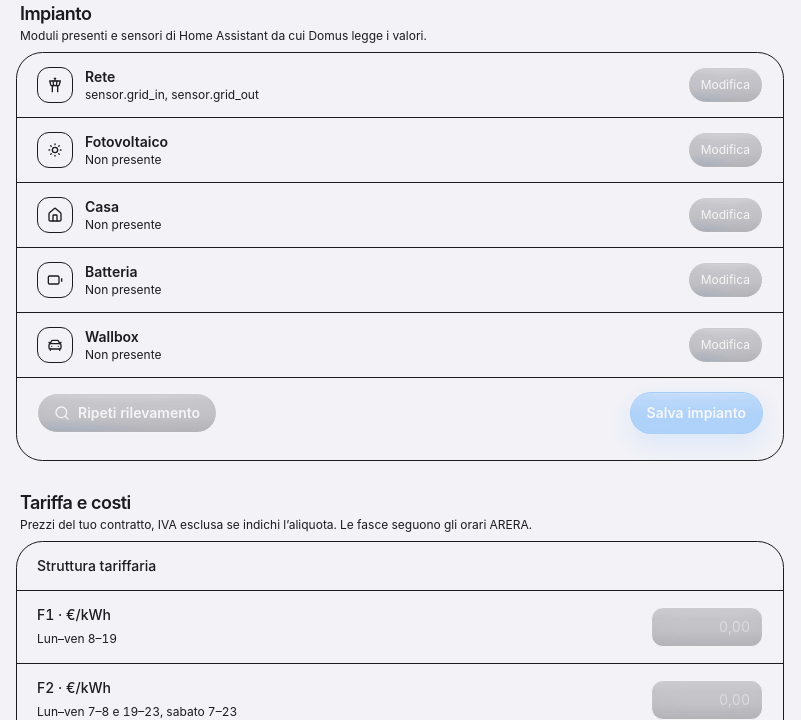
Test: Energy settings › saves a three-band tariff with decimal commas and keeps the saved modules
Type "0,31" into the field labelled "F1 · €/kWh Lun–ven 8–19" at (707, 627), box [651,607,763,647]
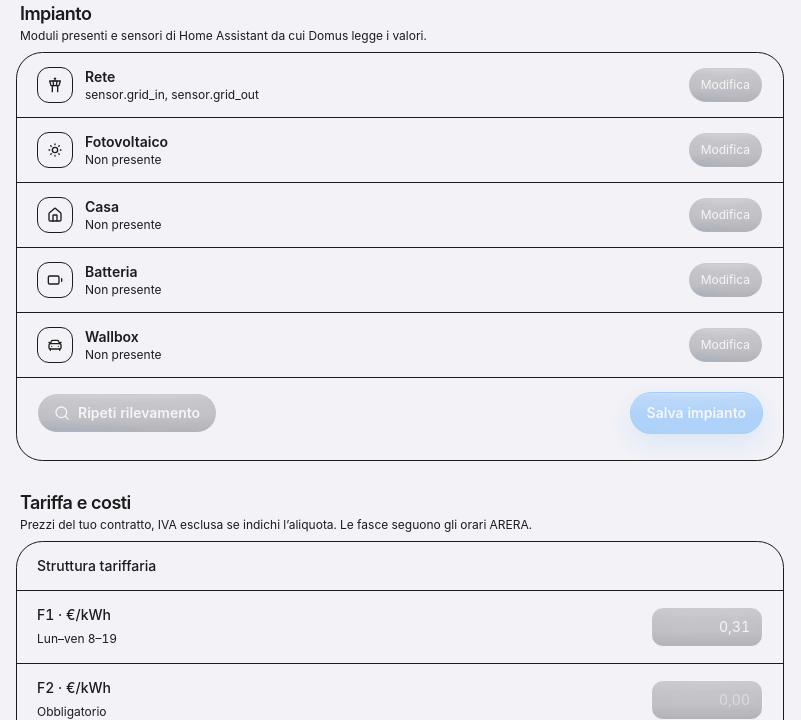
Type "0,27" into the field labelled "F2 · €/kWh Obbligatorio" at (707, 700), box [651,680,763,719]
(page scrolled)
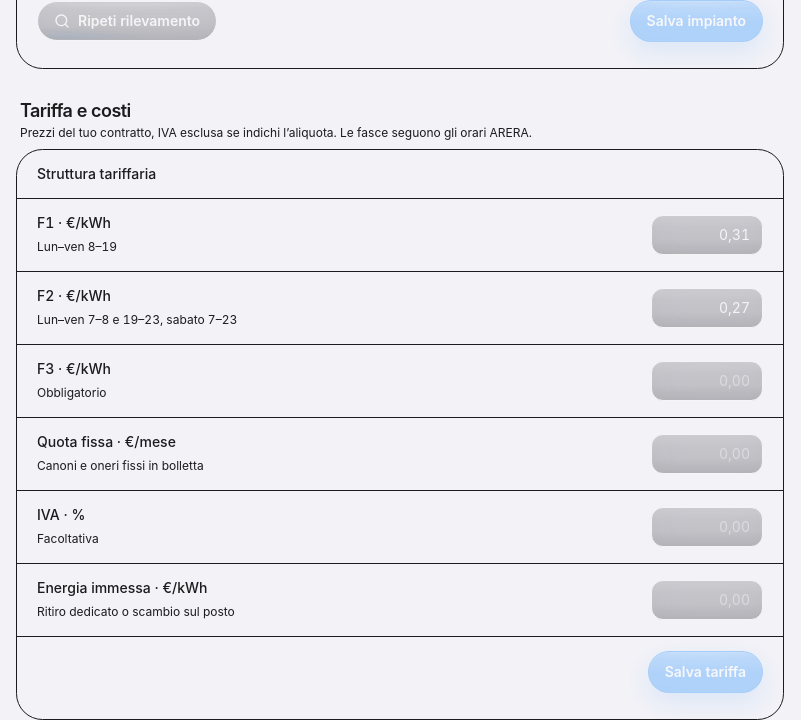
Type "0,22" into the field labelled "F3 · €/kWh Obbligatorio" at (707, 381), box [651,361,763,401]
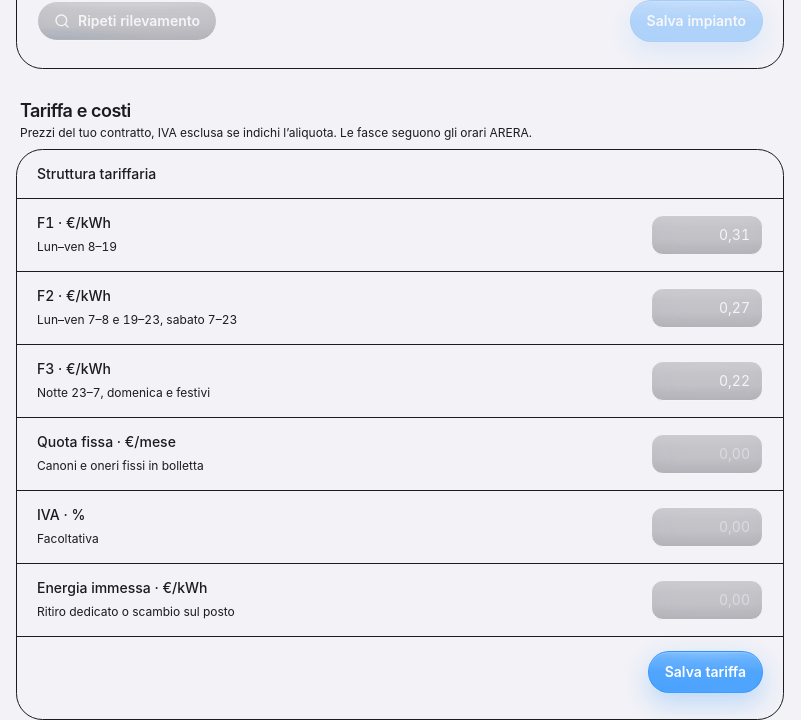
Type "10" into the field labelled "IVA · % Facoltativa" at (707, 527), box [651,507,763,547]
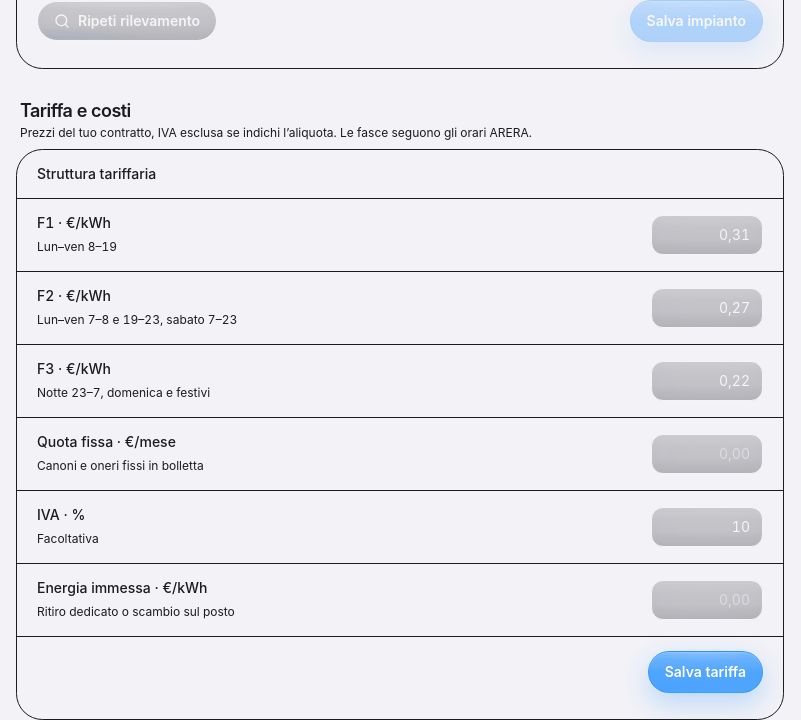
Type "0,09" into the field labelled "Energia immessa · €/kWh Ritiro dedicato o scambio sul posto" at (707, 600), box [651,580,763,620]
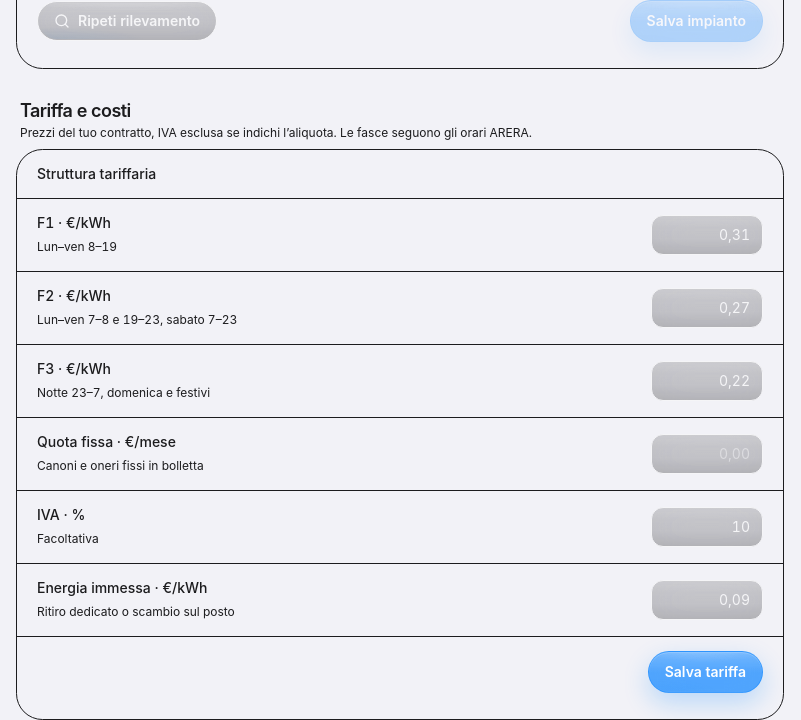
Click the button "Salva tariffa" at (705, 672), box [648,651,763,693]
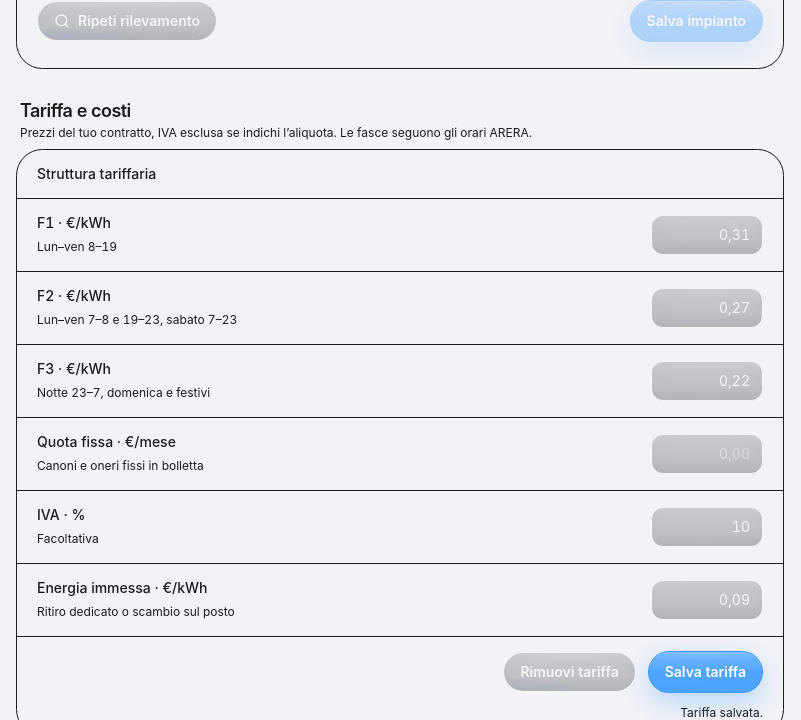
Now the text "Tariffa salvata." is shown, box [680,705,763,719]
